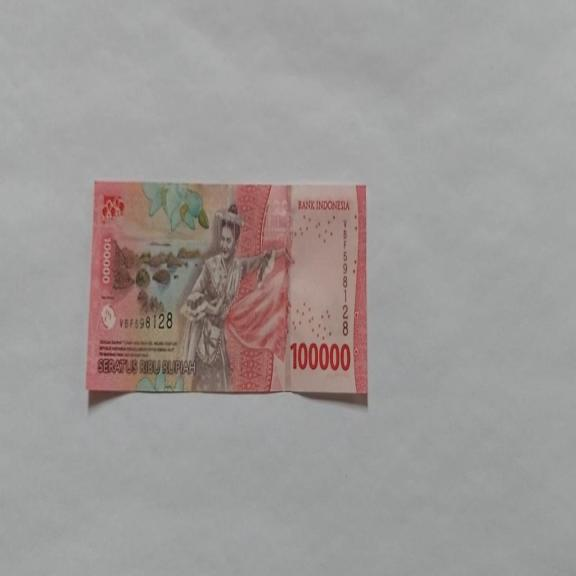Kertas: (86, 180, 368, 398), (289, 339, 351, 373)
